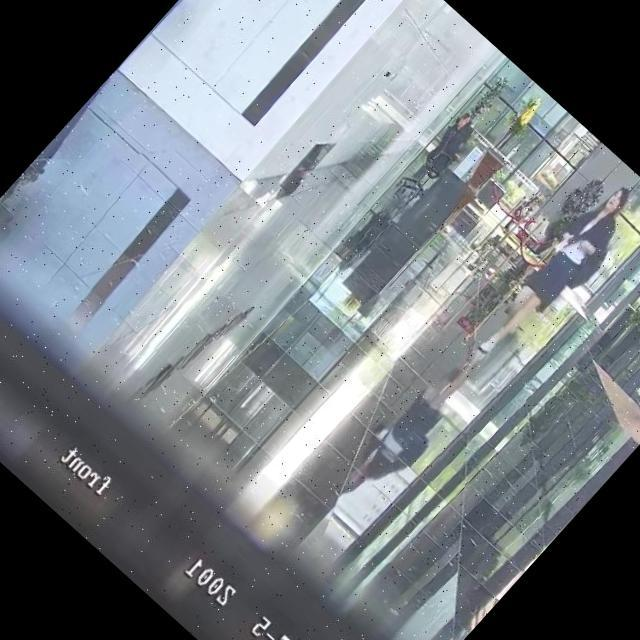person: (462, 175, 640, 377), (428, 118, 481, 174), (499, 190, 542, 236), (448, 110, 472, 136)
